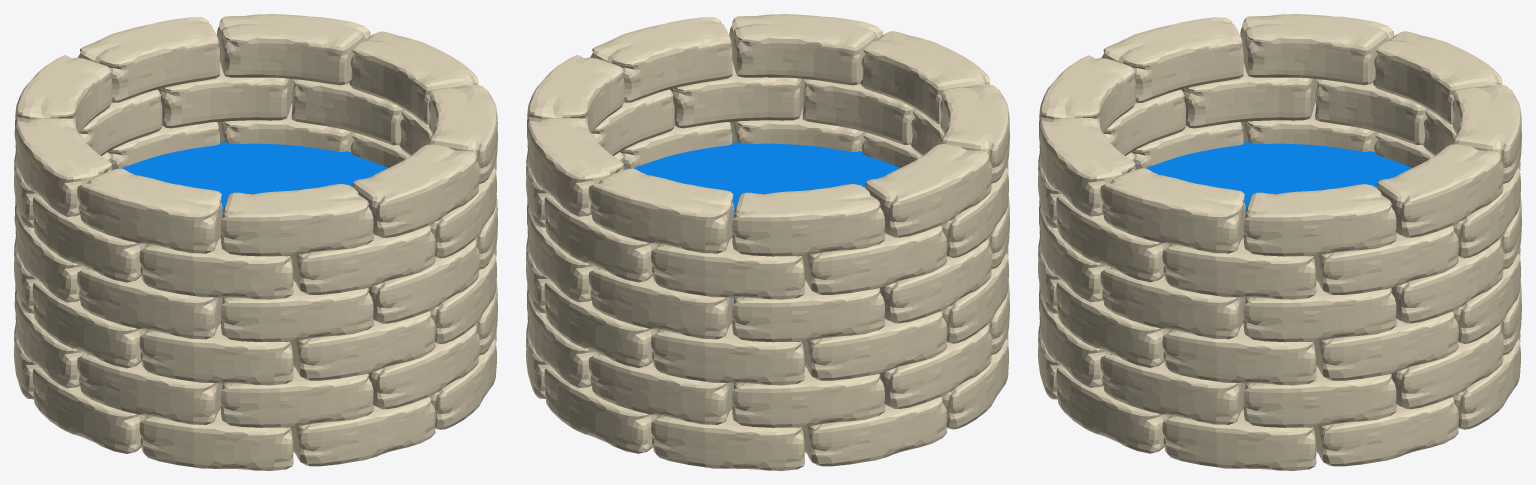
The model's file is Well.fbx.
3 renders of one model, left to right at view 1: azimuth 30°, elevation 25°; view 2: azimuth 150°, elevation 25°; view 3: azimuth 270°, elevation 25°, orthographic.
Visible parts, largest first — view 1: Cube, Cylinder; view 2: Cube, Cylinder; view 3: Cube, Cylinder.
Part boxes in pixels (box(x1,y1,x2,y2)): Cube: box(14, 14, 497, 470); Cylinder: box(112, 142, 387, 386); Cube: box(526, 14, 1009, 470); Cylinder: box(625, 142, 899, 386); Cube: box(1038, 14, 1521, 470); Cylinder: box(1146, 142, 1411, 385).
Bounding box in the file's own units: 125 × 73.34 × 125.
